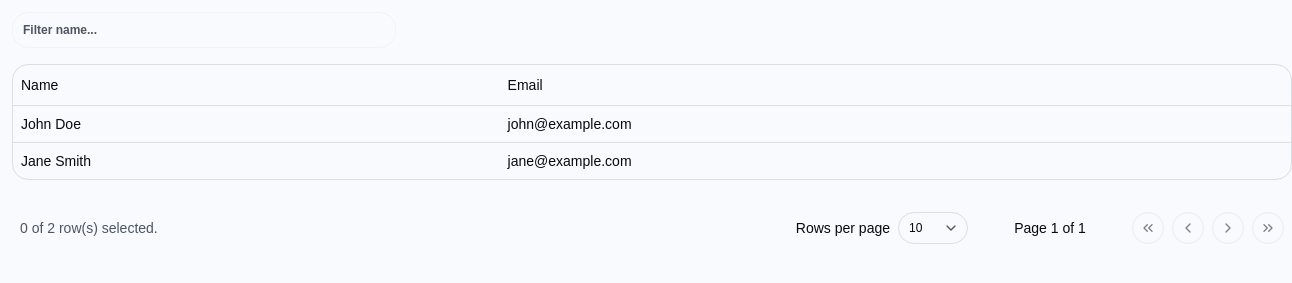
it: DataTable Component › shows empty state when no data matches filter
This screenshot has width=1292, height=283.
Type "Non-existent" into the field with placeholder "Filter name..." at (204,30), box x1=12 y1=12 x2=396 y2=48
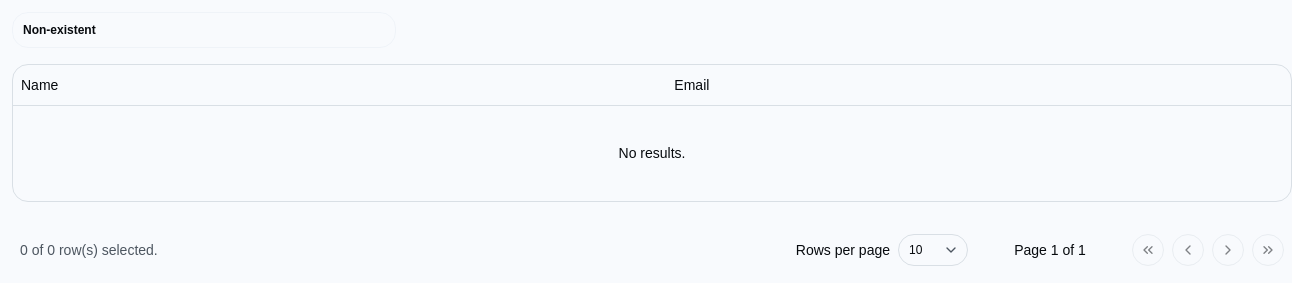
Check: the text "No results." is shown, box x1=13 y1=105 x2=1291 y2=201
